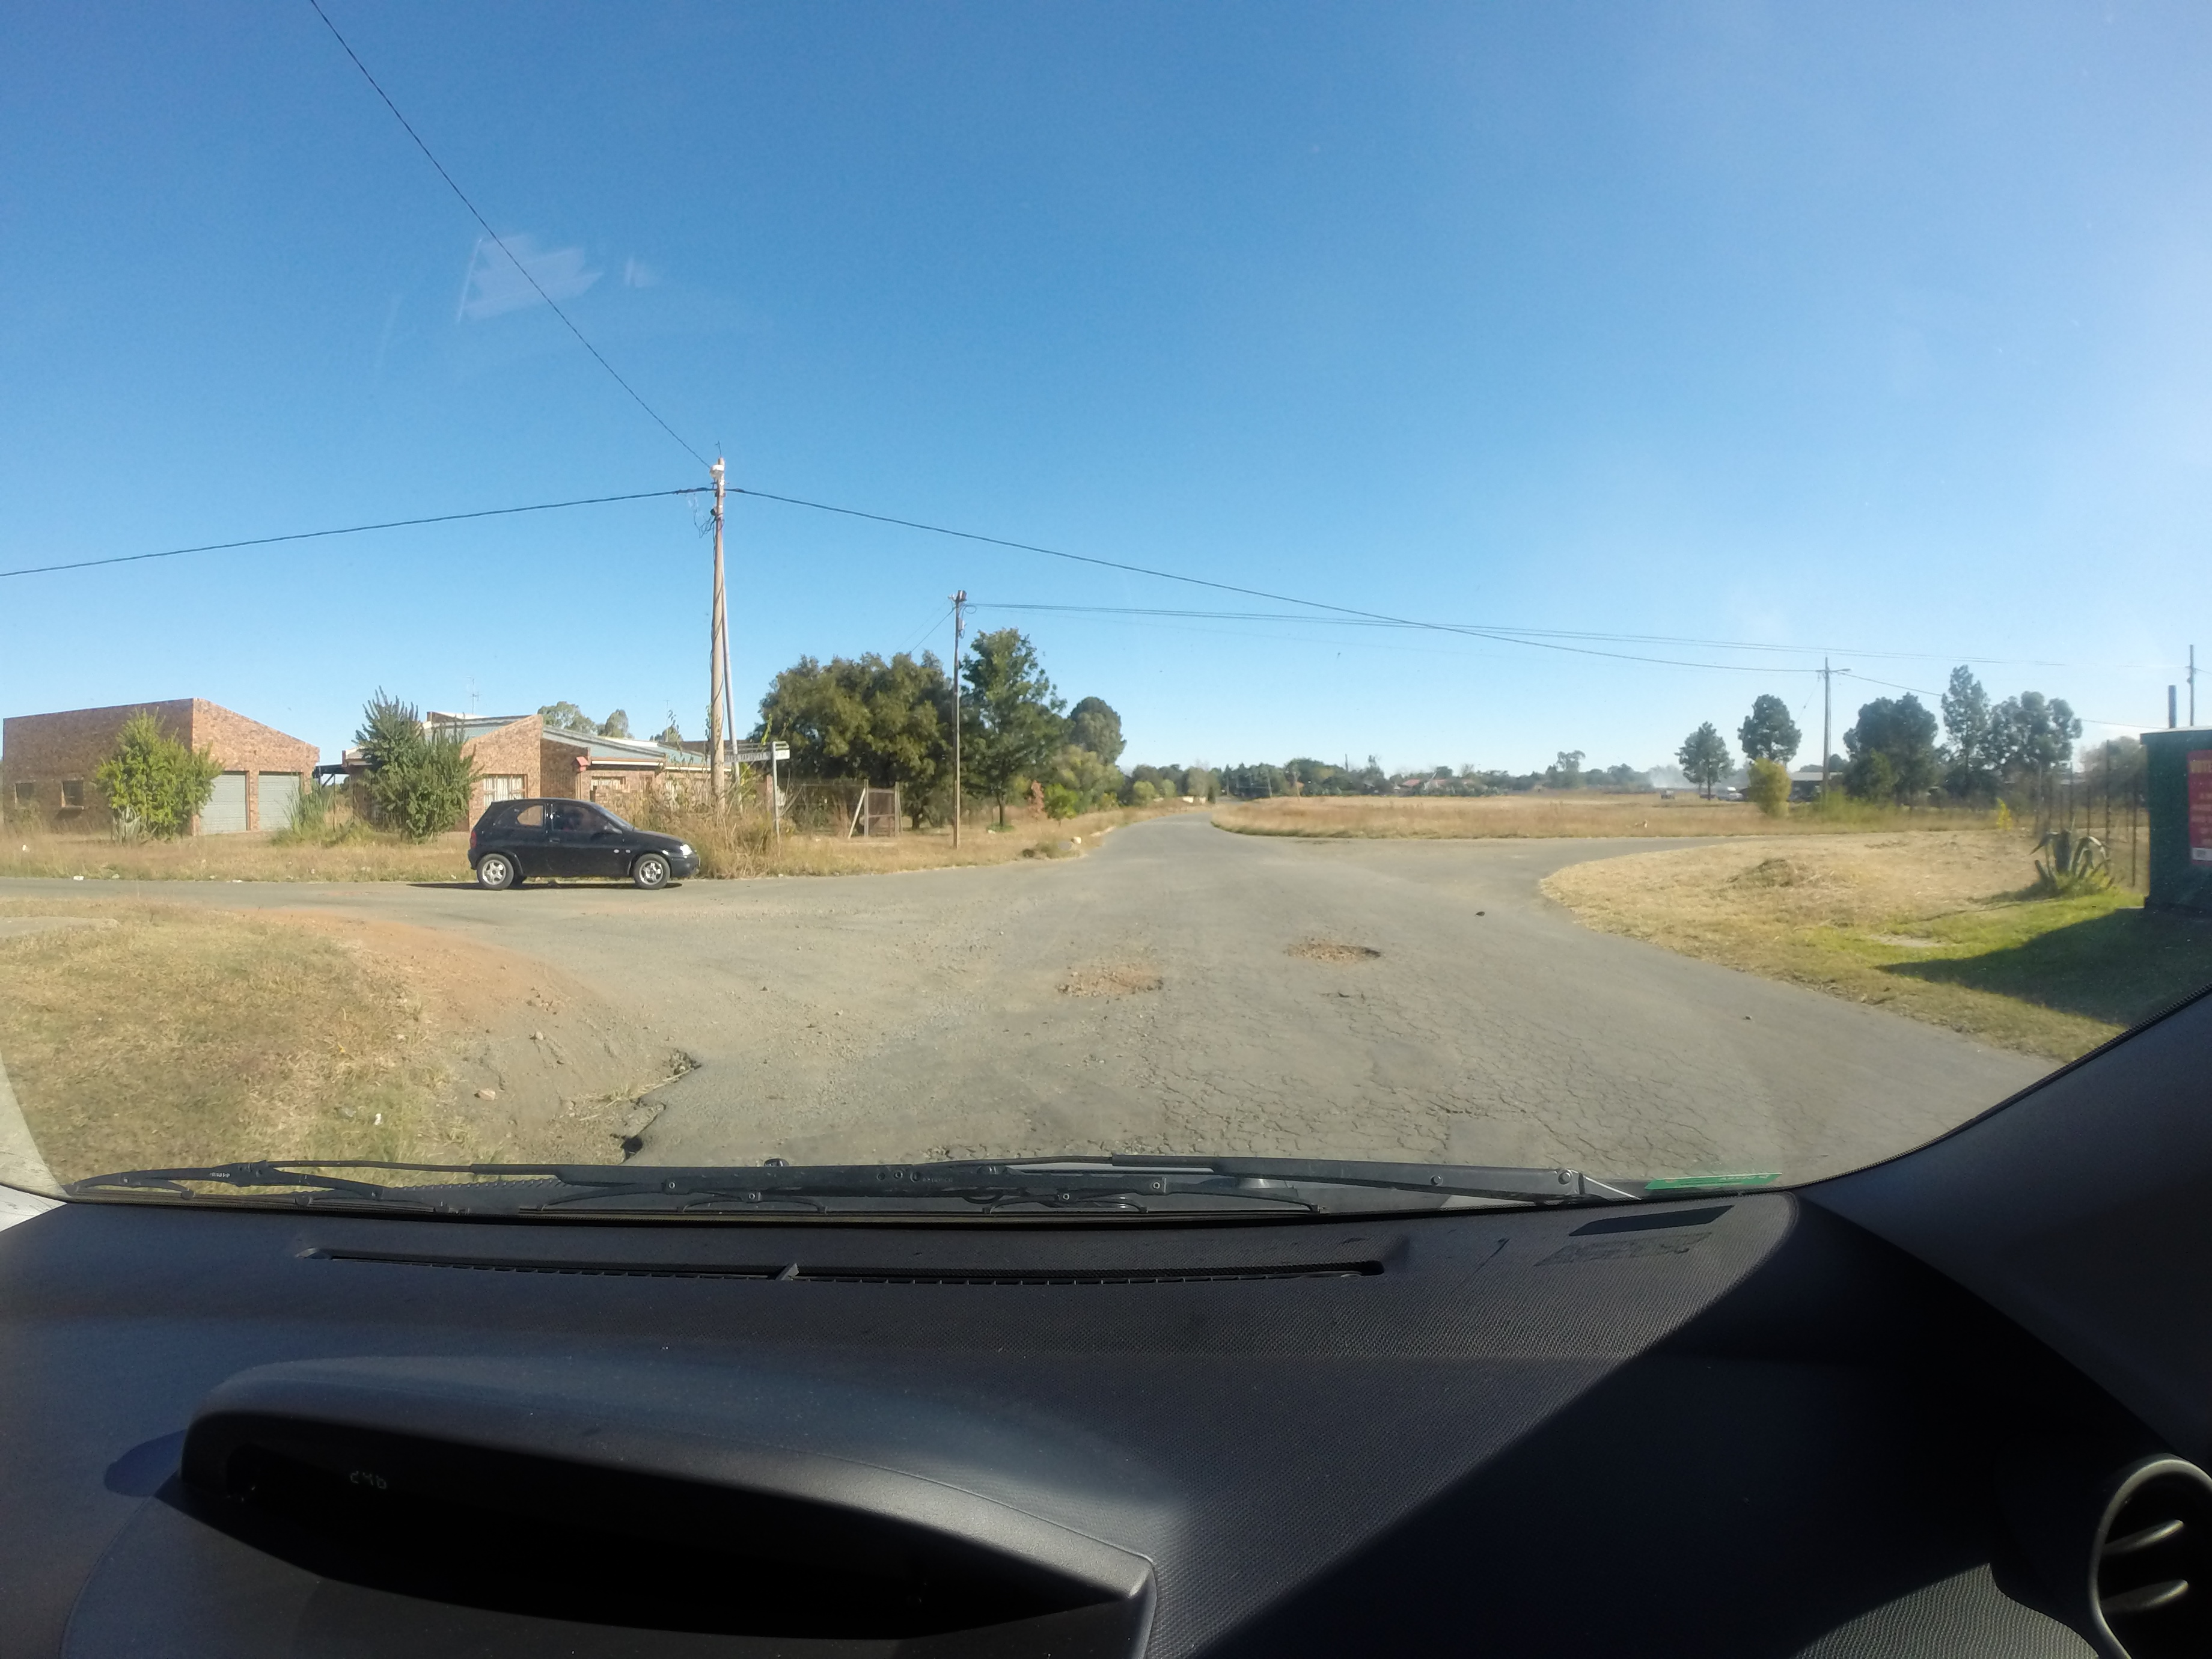pothole: (1015, 931, 1202, 1035), (1268, 906, 1428, 995)
